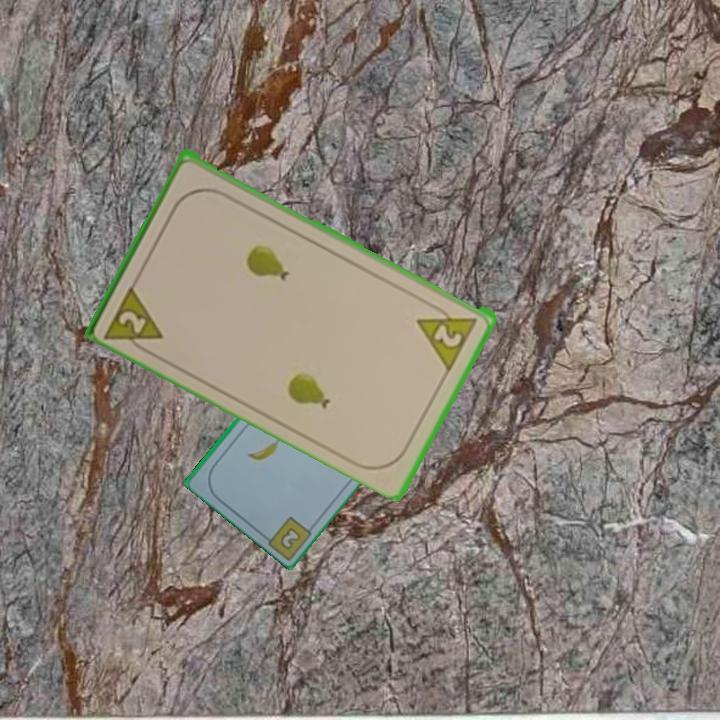2b: (276, 523, 304, 553)
2p: (413, 299, 481, 372), (115, 306, 150, 337)
